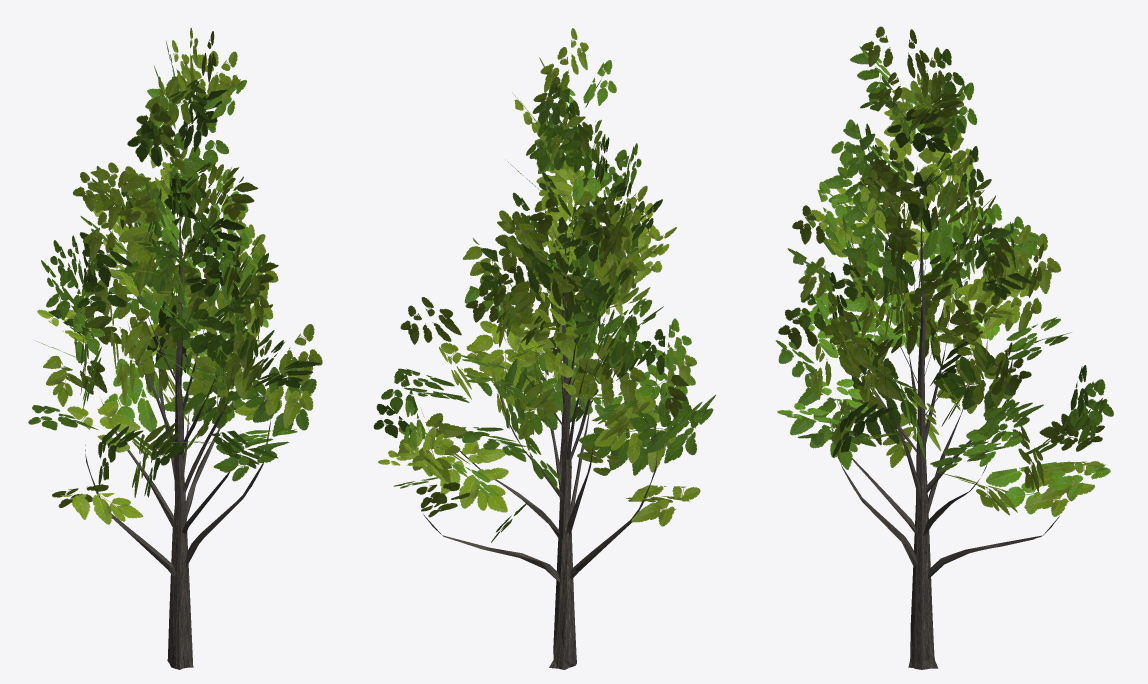
The model's file is treeA_LOD1.obj.
3 views of the same model, side by side, from view 1: azimuth 30°, elevation 25°; view 2: azimuth 150°, elevation 25°; view 3: azimuth 270°, elevation 25° (orthographic). The views are drawn at different scales.
Visible parts, largest first — view 1: g04.001, g03.001; view 2: g04.001, g03.001; view 3: g04.001, g03.001.
Part boxes in pixels (<box>): g04.001: <box>28,27,322,524</box>; g03.001: <box>85,215,270,669</box>; g04.001: <box>373,28,715,542</box>; g03.001: <box>423,231,657,669</box>; g04.001: <box>775,26,1113,516</box>; g03.001: <box>829,208,1059,669</box>.
Size of the model in its own units: 11.63 by 24.31 by 12.57.
2 materials, 2 textured.
